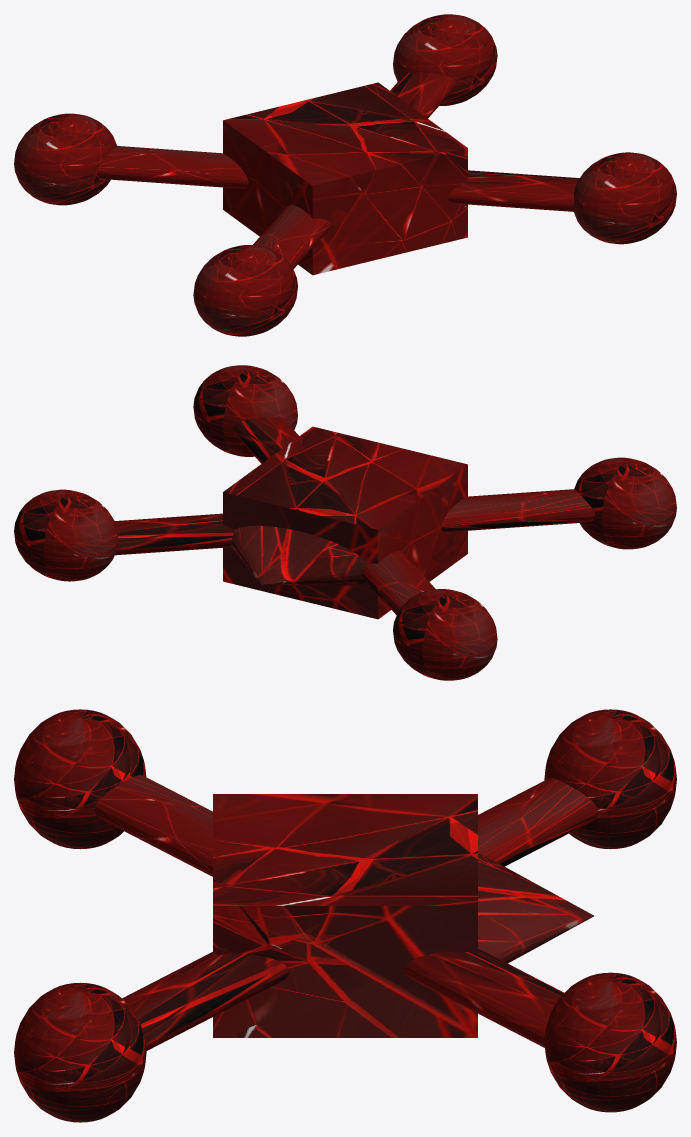
Rendered from drone-visualizer.glb.
The picture shows the model from 3 angles, top to bottom: view 1: azimuth 30°, elevation 25°; view 2: azimuth 150°, elevation 25°; view 3: azimuth 270°, elevation 25°; orthographic projection. The views are drawn at different scales.
Visible parts, largest first — view 1: Drone; view 2: Drone; view 3: Drone.
Part boxes in pixels (bbox=[...]): Drone: bbox=[14, 14, 676, 336]; Drone: bbox=[14, 365, 676, 680]; Drone: bbox=[14, 709, 676, 1122].
Size of the model in its own units: 0.5079 by 0.0952 by 0.4165.
1 material, 1 textured.
